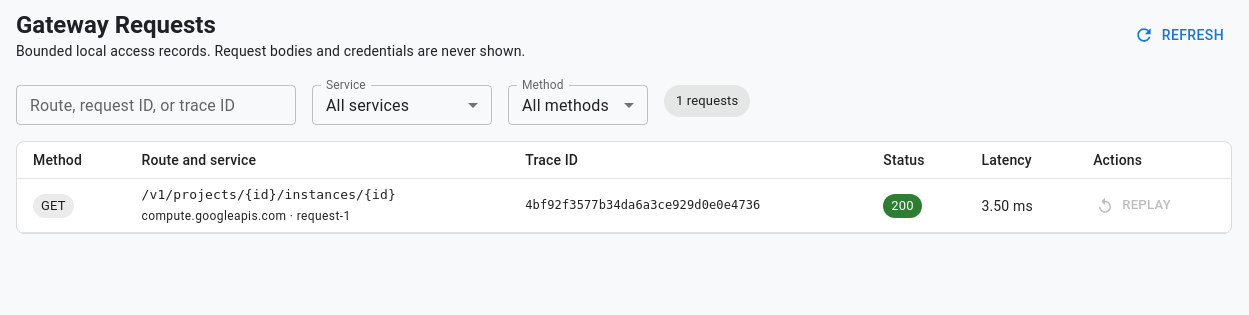
Test: GatewayRequestsPage › marks retained records stale after a refresh failure
The image size is (1249, 315).
Expected: the text "/v1/projects/{id}/instances/{id}" is shown, [142, 187, 396, 202]
Click the button "Refresh" at {"x": 1181, "y": 35}, box [1130, 17, 1232, 53]
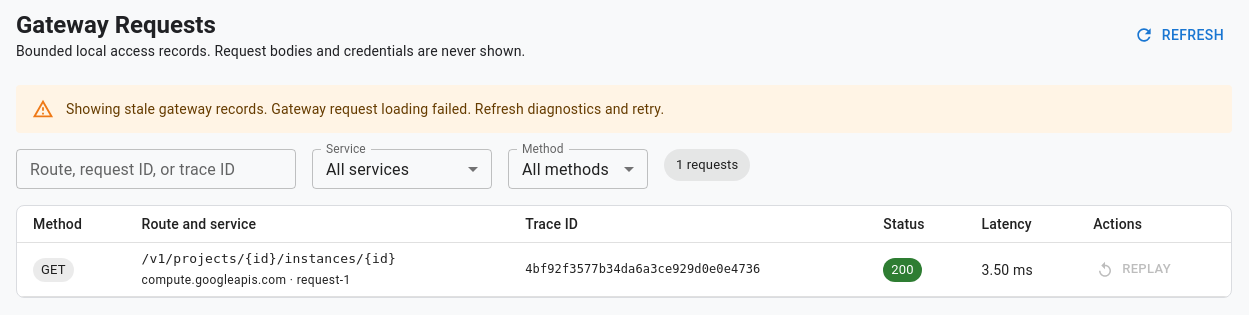
Expected: the text "/v1/projects/{id}/instances/{id}" is shown, [142, 251, 396, 266]
Expected: the message shows "Showing stale gateway records", [66, 101, 664, 117]
